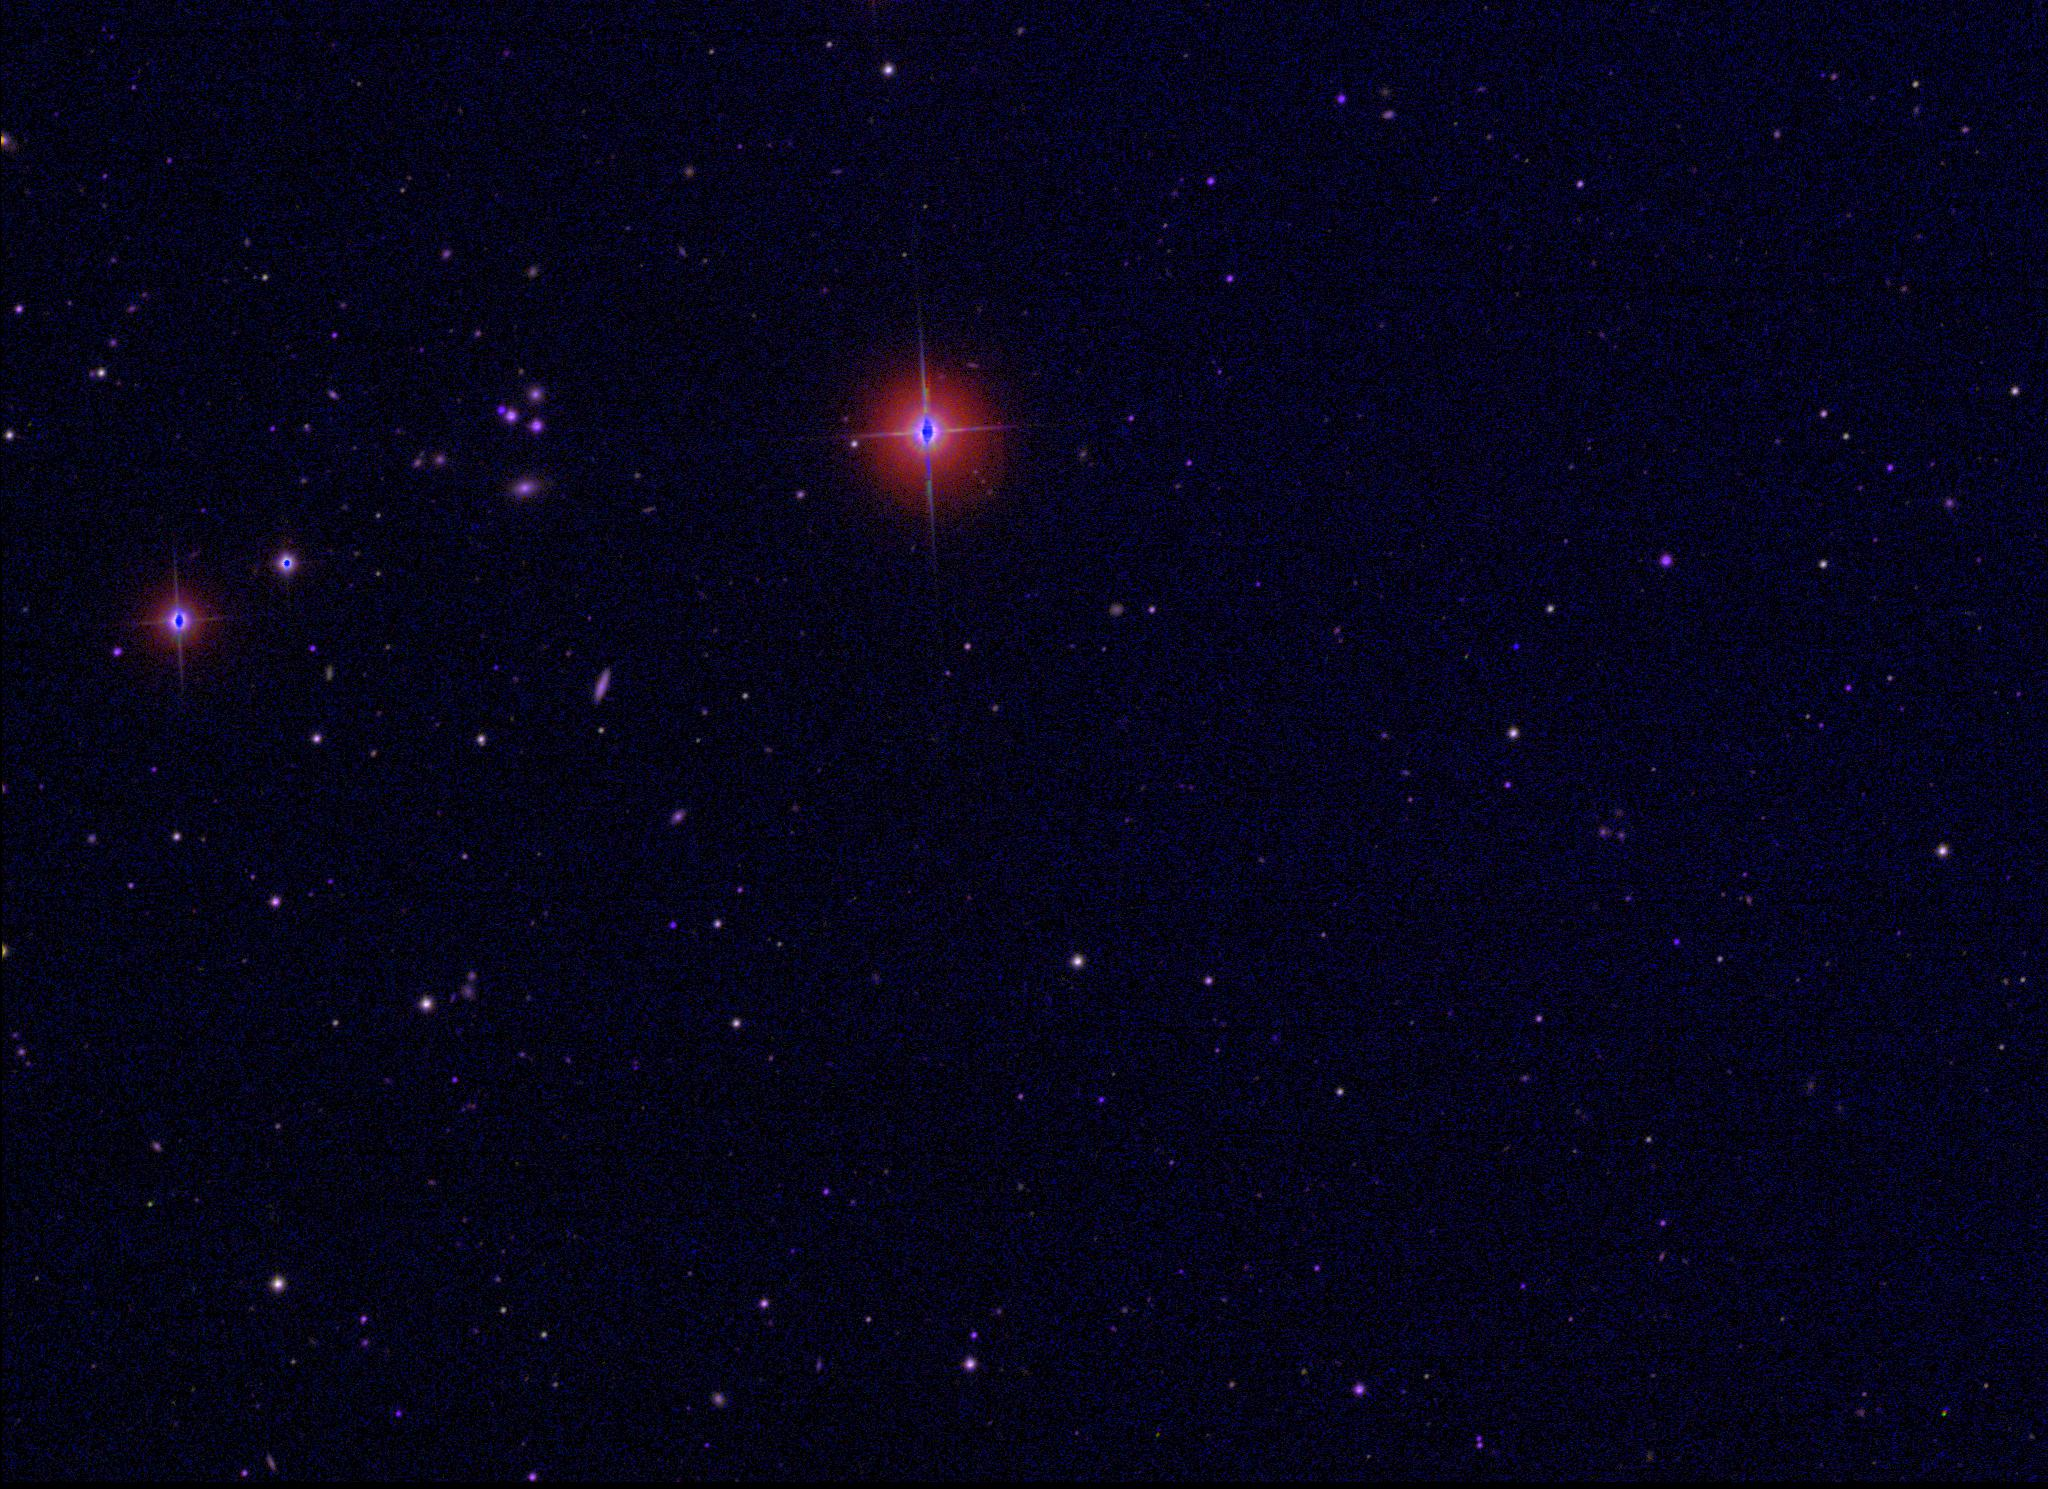L: (1511, 640, 1523, 652)
